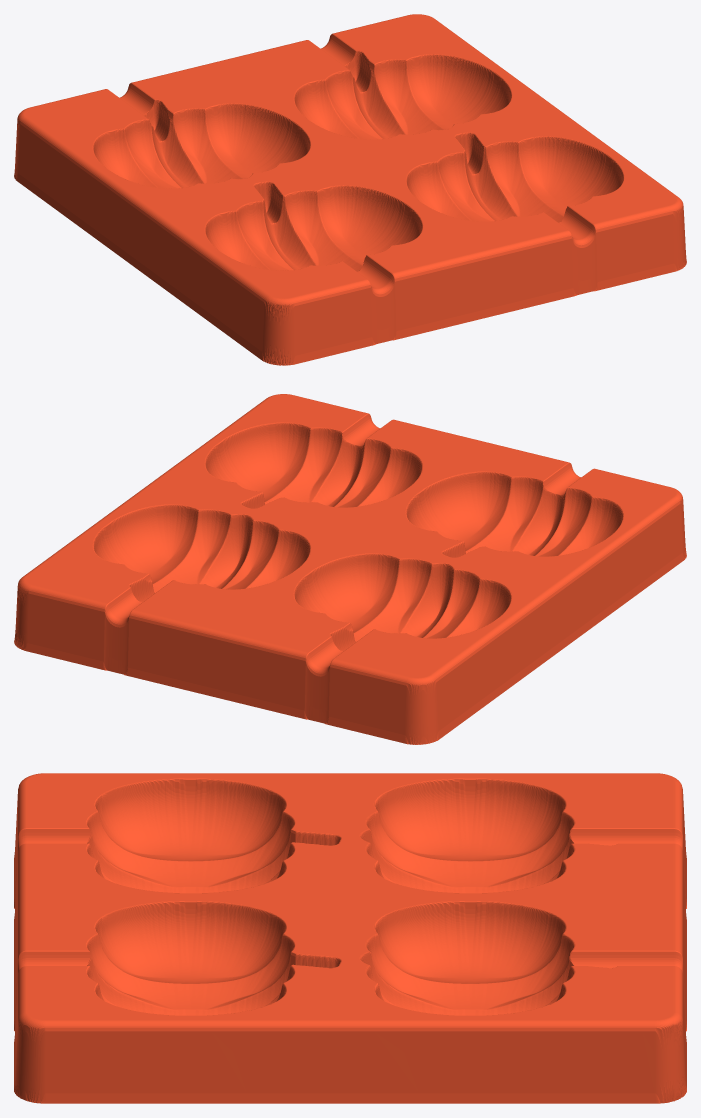
Rendered from mold.glb.
3 views of the same model, one above another, from view 1: azimuth 30°, elevation 25°; view 2: azimuth 150°, elevation 25°; view 3: azimuth 270°, elevation 25° (orthographic). The views are drawn at different scales.
Parts seen in each view (by area): view 1: geometry_0; view 2: geometry_0; view 3: geometry_0.
Part boxes in pixels (x1,y1,x2,y2): geometry_0: [14, 14, 686, 365]; geometry_0: [14, 394, 686, 744]; geometry_0: [14, 773, 686, 1103].
Bounding box in the file's own units: 0.1726 × 0.0245 × 0.1911.
